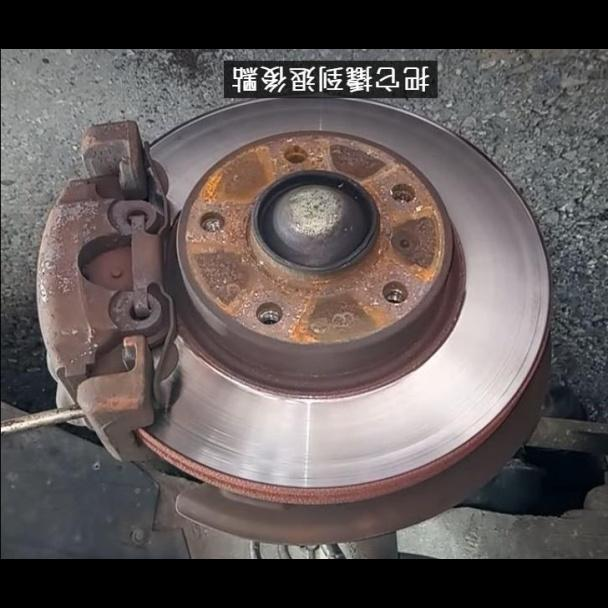hole: (252, 298, 283, 327), (378, 278, 409, 305), (388, 181, 419, 204), (197, 210, 224, 234)
